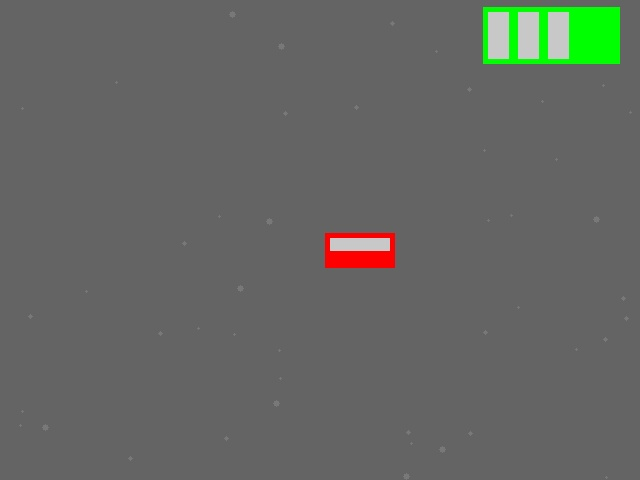bus: (483, 7, 619, 63)
car: (325, 233, 394, 267)
